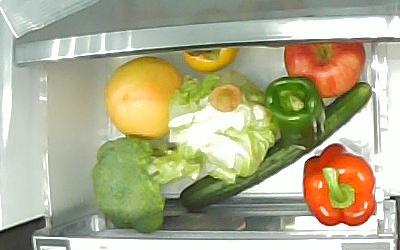apple: (283, 43, 366, 99)
broccoli: (91, 140, 198, 234)
cucumber: (177, 82, 372, 212)
grapefruit: (104, 57, 182, 137)
lettuce: (167, 72, 279, 183)
paprika: (301, 141, 378, 226), (266, 76, 326, 149)
persimmon: (182, 46, 240, 72)
